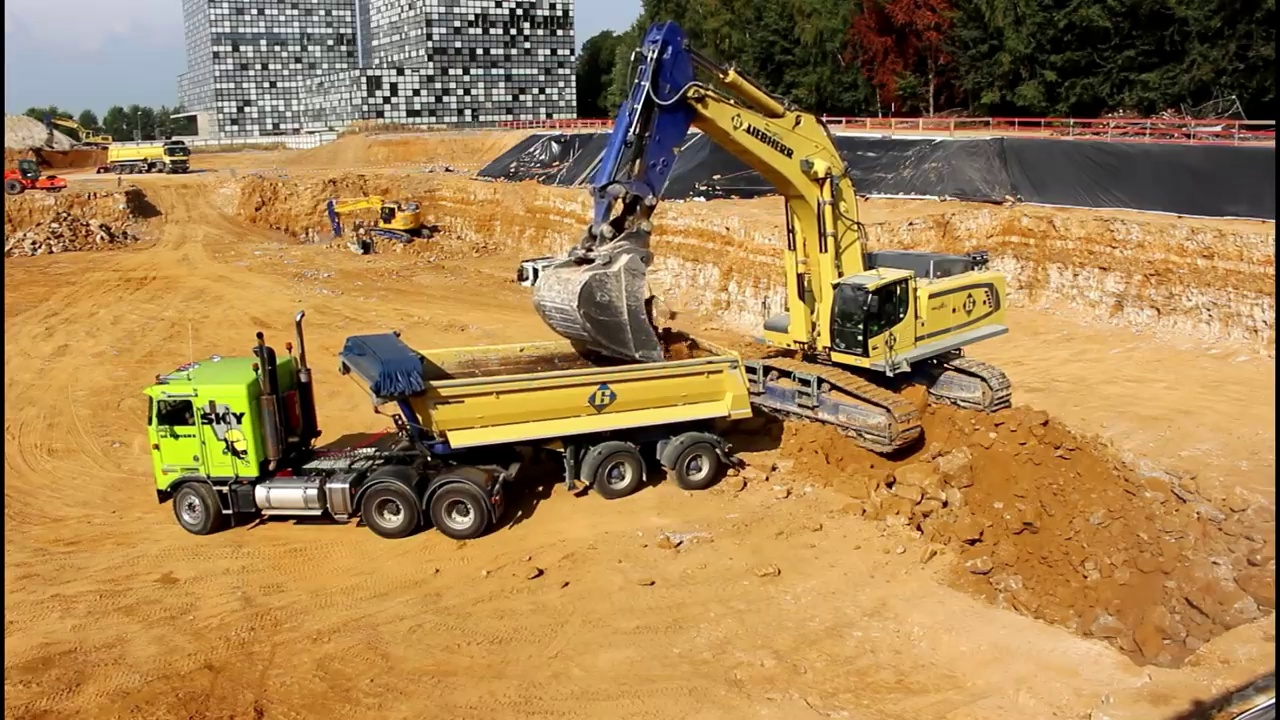compactor: (4, 158, 71, 199)
excavator: (514, 16, 1021, 462), (323, 188, 439, 257), (42, 112, 125, 155)
truck: (142, 306, 761, 544), (104, 137, 194, 176)
